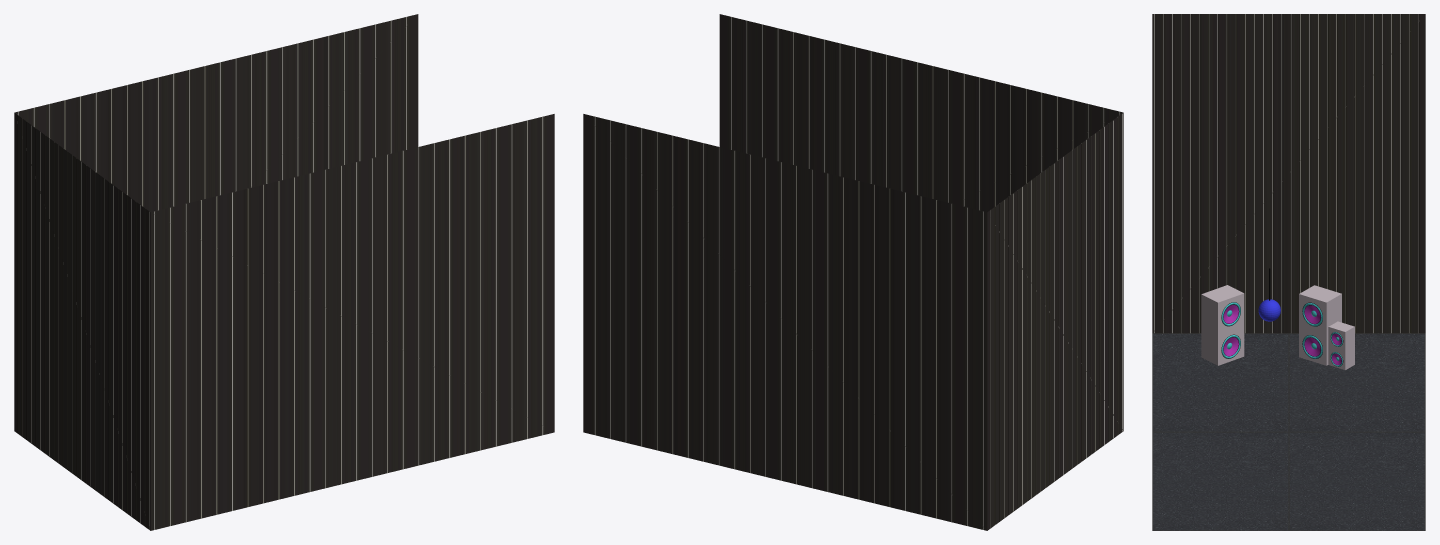
File: sahne (1).fbx
3 renders of one model, left to right at view 1: azimuth 30°, elevation 25°; view 2: azimuth 150°, elevation 25°; view 3: azimuth 270°, elevation 25°, orthographic.
Visible parts, largest first — view 1: Plane; view 2: Plane; view 3: Plane, Cube, Cube.001, Cube.002, Sphere.
Part boxes in pixels (x1,y1,x2,y2): Plane: (14,14,554,530); Plane: (583,14,1123,530); Plane: (1152,14,1425,530); Cube: (1201,285,1244,365); Cube.001: (1299,285,1341,365); Cube.002: (1328,321,1354,370); Sphere: (1258,299,1280,321).
Size of the model in its own units: 8748 by 6631 by 5113.
